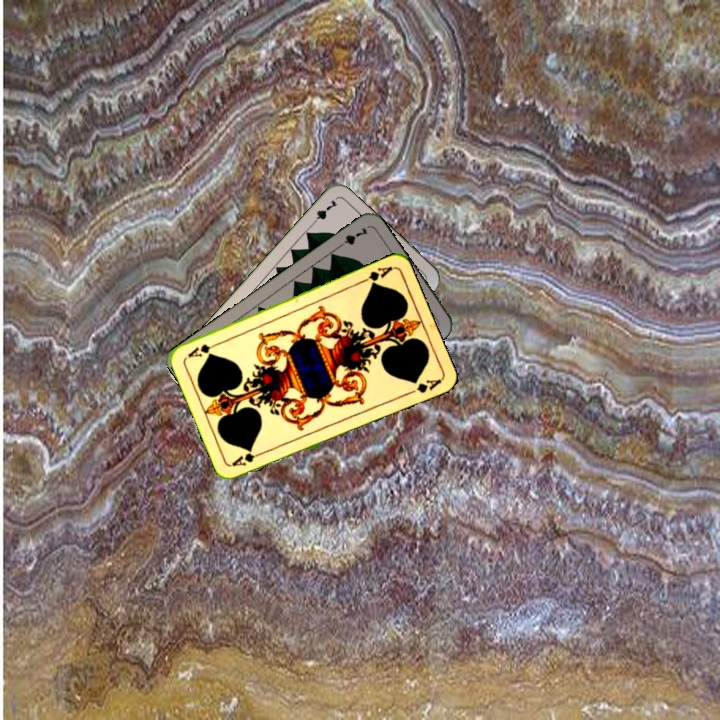G7: (306, 195, 340, 229), (333, 223, 371, 251)
GA: (356, 262, 395, 288), (228, 447, 268, 469)
